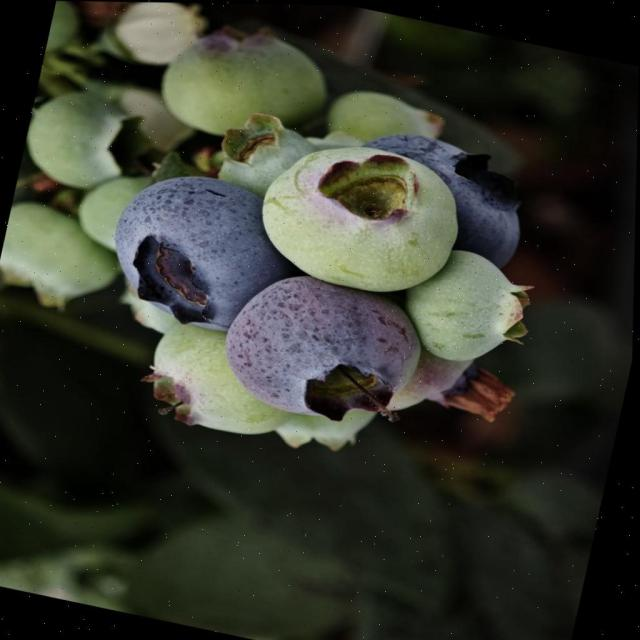RipeBlueBerry: (100, 162, 279, 332)
Semi-RipeBlueBerry: (217, 266, 427, 434)
UnripeBlueBerry: (250, 132, 474, 304)
